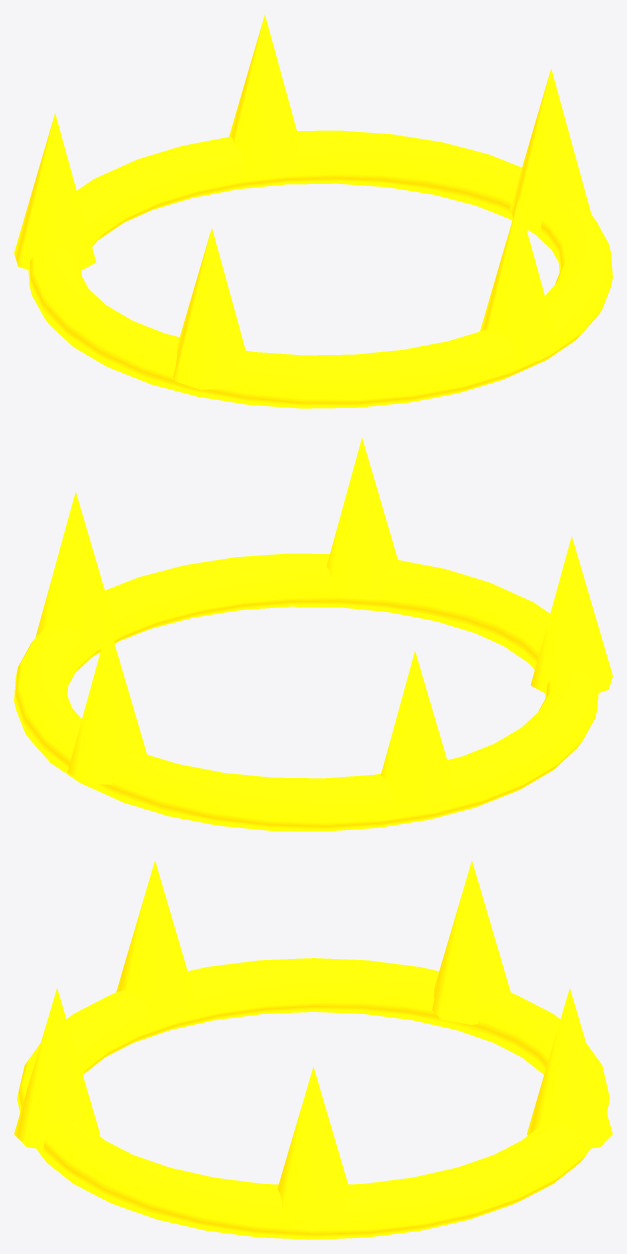
Rendered from eyes_gold_seer.glb.
The picture shows the model from 3 angles, top to bottom: view 1: azimuth 30°, elevation 25°; view 2: azimuth 150°, elevation 25°; view 3: azimuth 270°, elevation 25°; orthographic projection.
Bounding box in the file's own units: 0.3164 × 0.098 × 0.3111.
